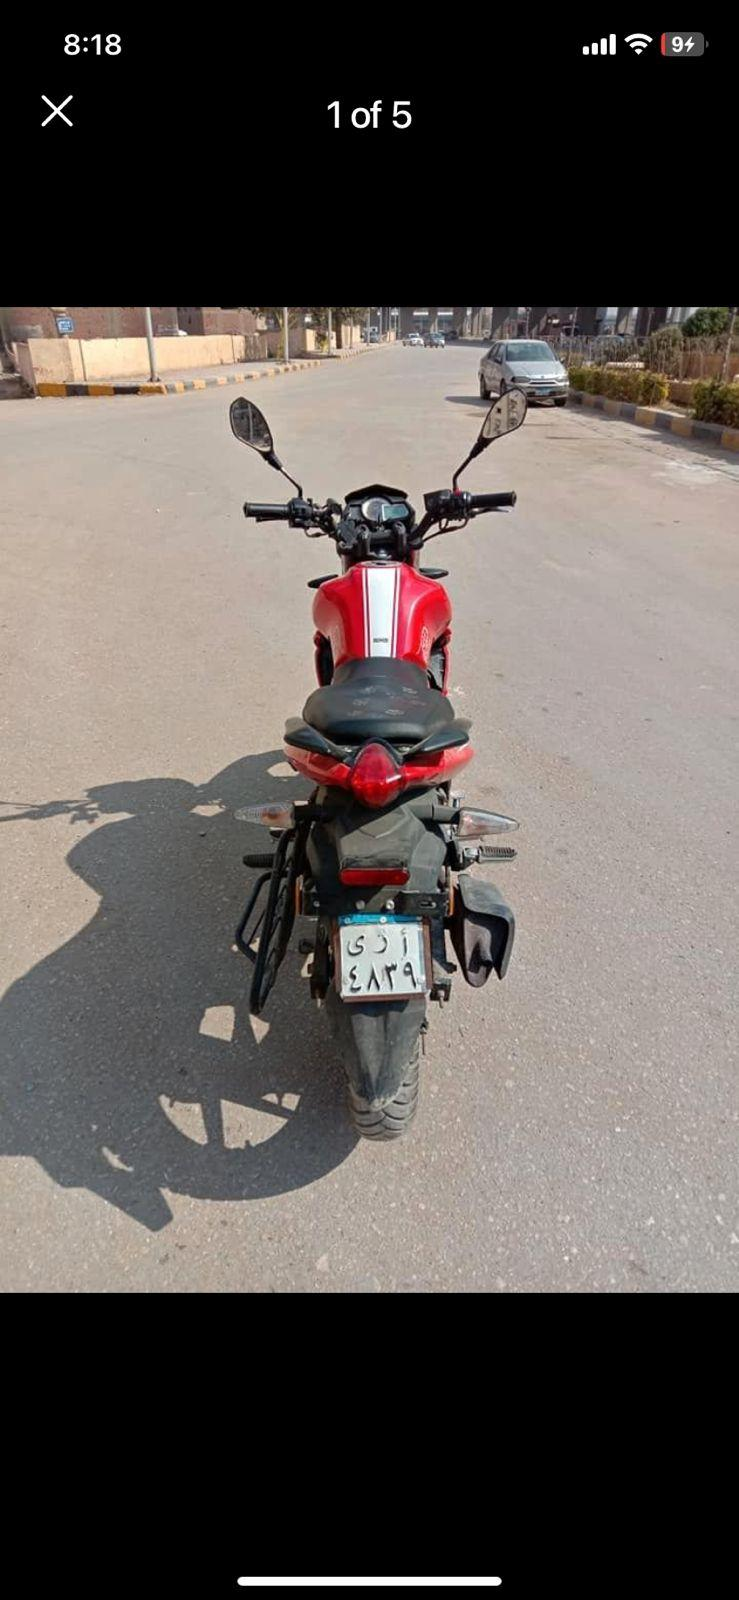License Plate: (337, 890, 433, 1000)
